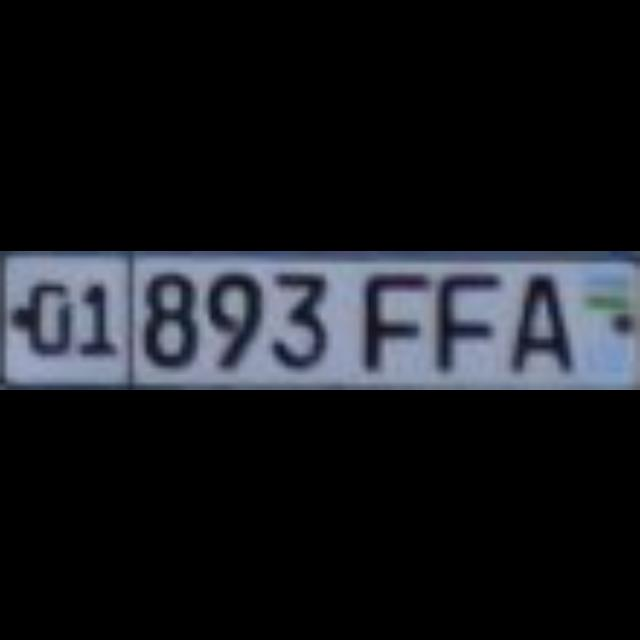0: (17, 267, 64, 343)
1: (64, 267, 104, 343)
3: (262, 262, 314, 354)
8: (134, 262, 186, 354)
9: (198, 262, 256, 361)
A: (506, 262, 564, 366)
F: (355, 262, 419, 361), (431, 262, 489, 361)
